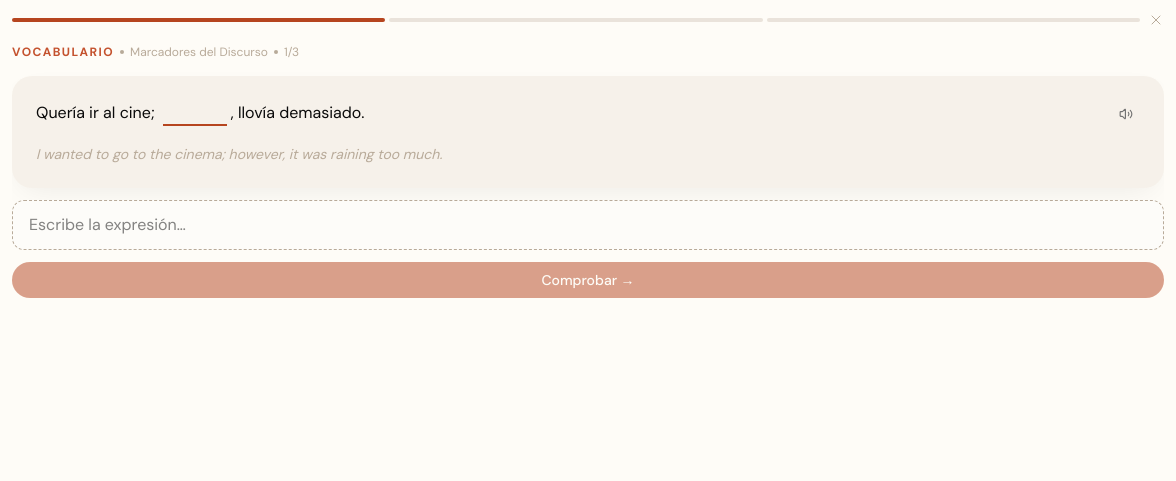
Test: VocabSession › Try Again clears input and returns to answering phase
The width and height of the screenshot is (1176, 481).
Type "por lo tanto" into the field with placeholder "Escribe la expresión…" at point(588, 225), box x1=29 y1=213 x2=1147 y2=237
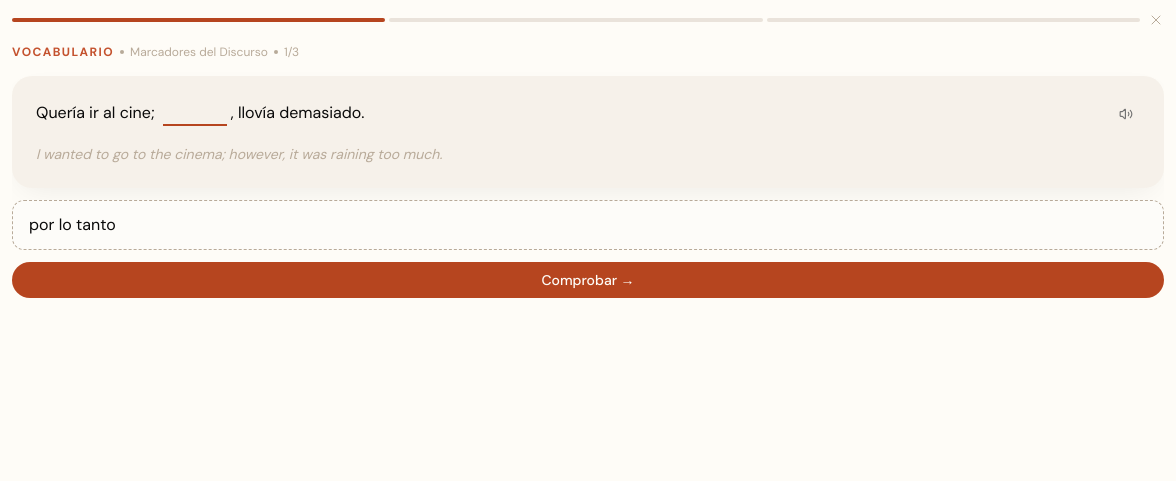
Click the button "Comprobar →" at point(588, 280), box x1=12 y1=262 x2=1164 y2=298
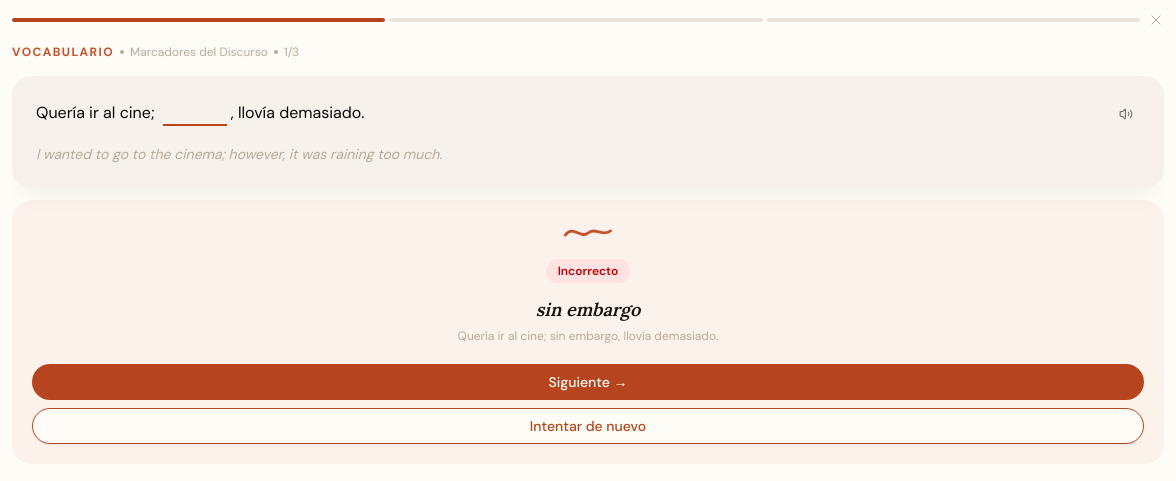
Click the button with test id "try-again-btn" at point(588, 426), box x1=32 y1=408 x2=1144 y2=444
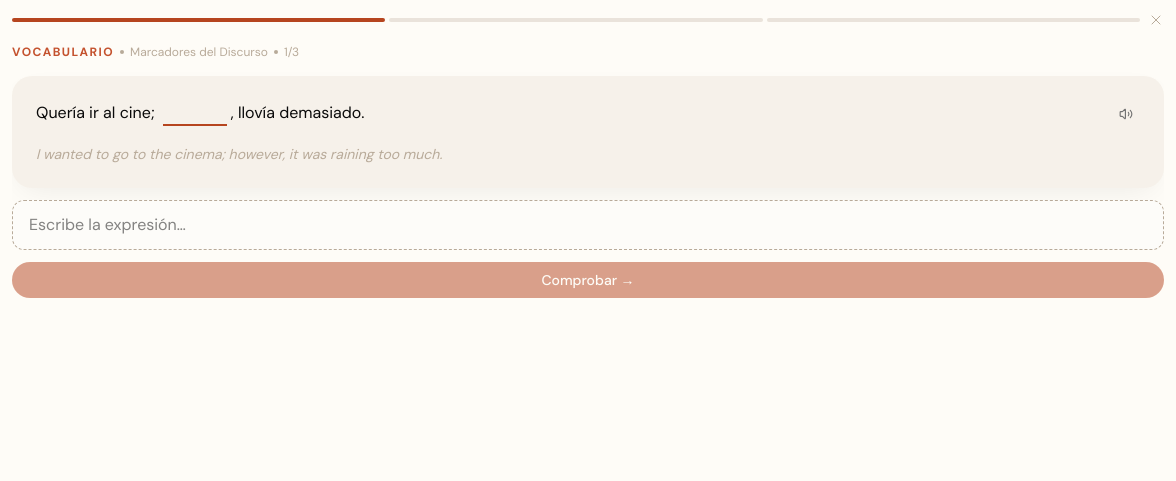
Expected: the field with placeholder "Escribe la expresión…" is empty, x1=29 y1=213 x2=1147 y2=237
Expected: the button "Comprobar →" is shown, x1=12 y1=262 x2=1164 y2=298
